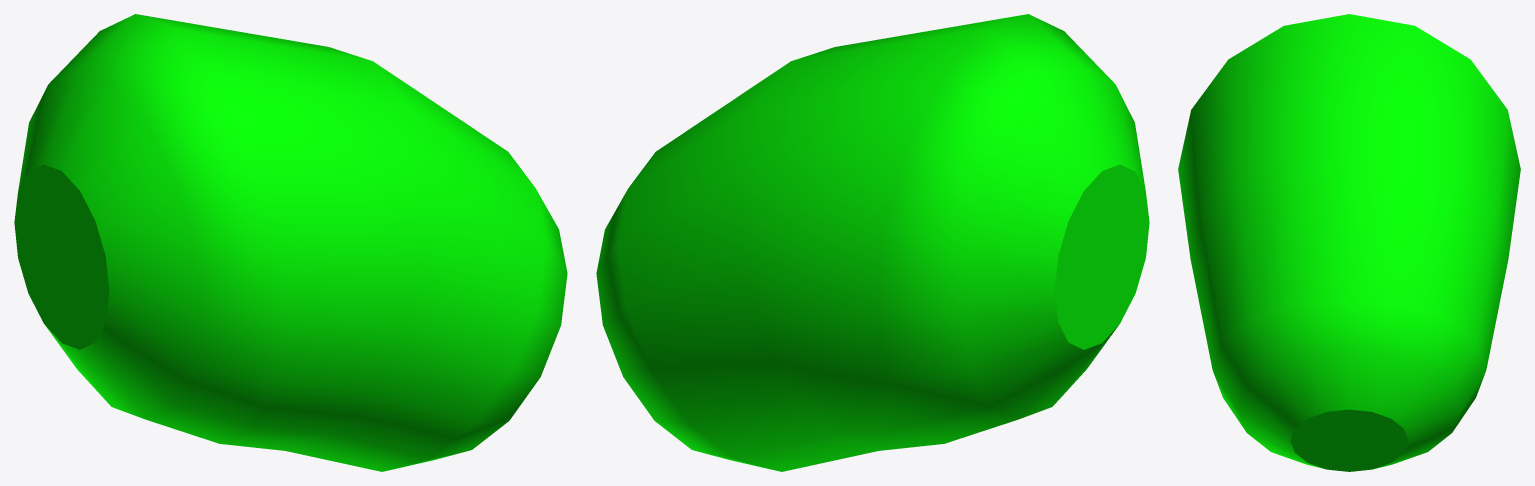
File: rightarm.obj
3 views of the same model, side by side, from view 1: azimuth 30°, elevation 25°; view 2: azimuth 150°, elevation 25°; view 3: azimuth 270°, elevation 25° (orthographic). The views are drawn at different scales.
Parts seen in each view (by area): view 1: al:uparmL; view 2: al:uparmL; view 3: al:uparmL.
Part boxes in pixels (x1,y1,x2,y2): al:uparmL: (14,14,567,471); al:uparmL: (596,14,1149,471); al:uparmL: (1178,14,1520,471).
Size of the model in its own units: 1.28 by 1.22 by 1.02.
